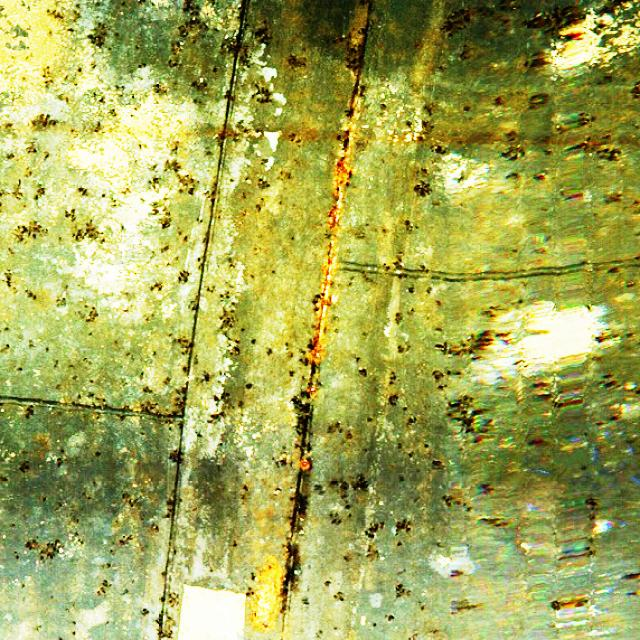Corrosion: (307, 238, 338, 363), (250, 555, 285, 631), (330, 157, 353, 236), (299, 459, 311, 471), (306, 387, 318, 395)
